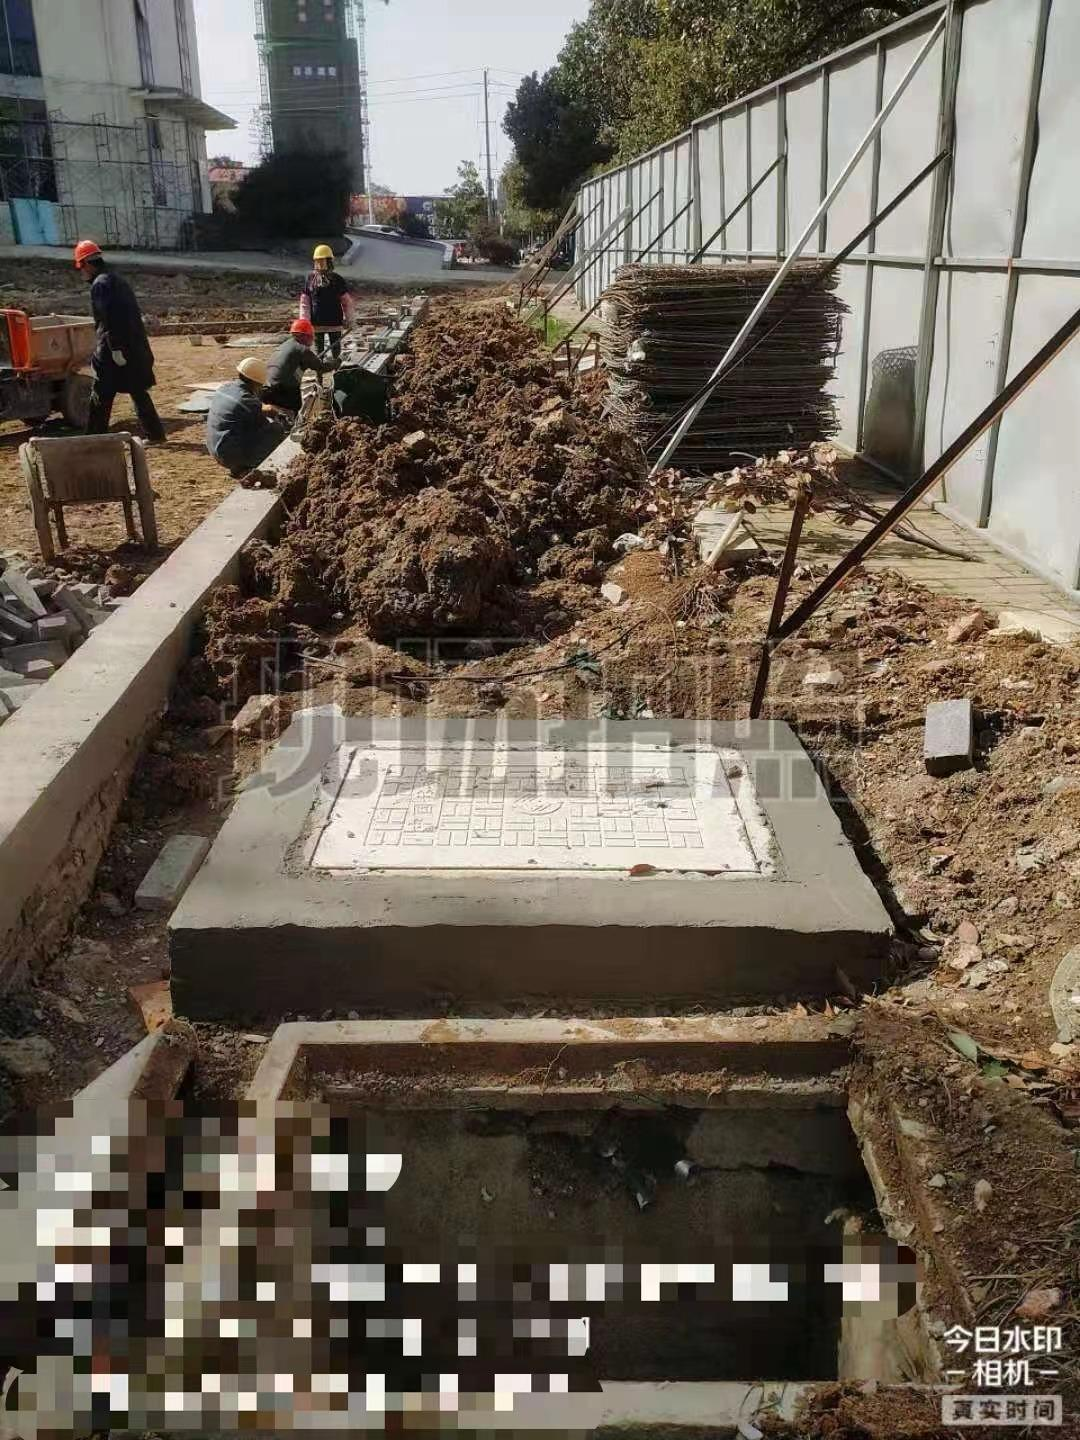wellcover: (188, 1024, 964, 1432), (261, 723, 895, 950)
